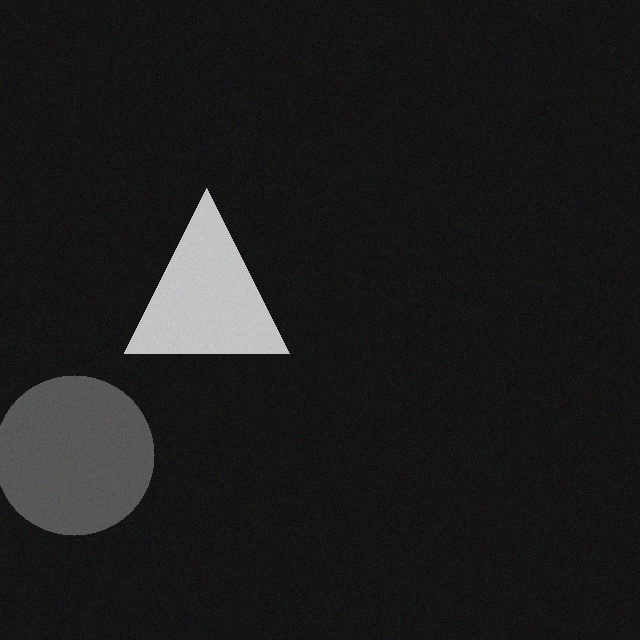circle: (0, 371, 160, 531)
triangle: (130, 184, 295, 349)
